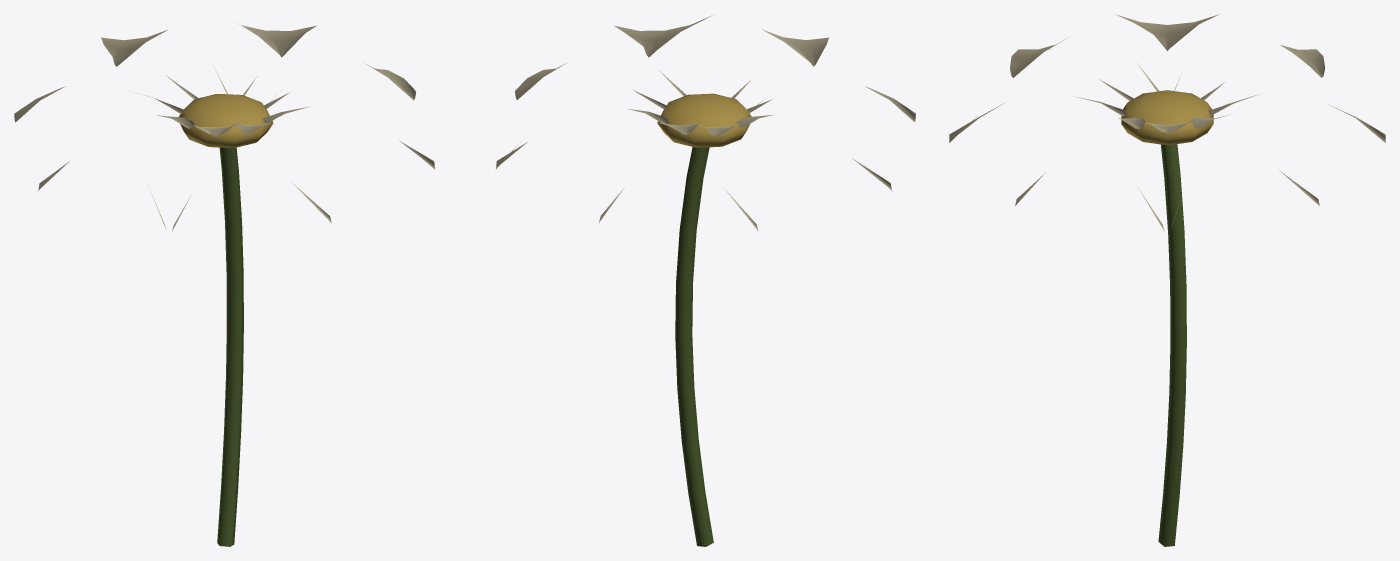
Rendered from meadow-flowers.glb.
The picture shows the model from 3 angles, left to right: view 1: azimuth 30°, elevation 25°; view 2: azimuth 150°, elevation 25°; view 3: azimuth 270°, elevation 25°; orthographic projection.
Visible parts, largest first — view 1: city-details/meadow-flowers; view 2: city-details/meadow-flowers; view 3: city-details/meadow-flowers.
Boxes of the visible parts, x1,y1,x2,y2 form: city-details/meadow-flowers: (14, 20, 435, 546); city-details/meadow-flowers: (495, 15, 915, 546); city-details/meadow-flowers: (949, 14, 1385, 546).
Size of the model in its own units: 0.2313 by 0.2587 by 0.216.
